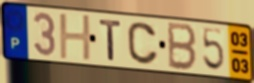3: (31, 11, 58, 59)
5: (200, 26, 226, 73)
B: (167, 20, 198, 73)
C: (126, 20, 161, 67)
H: (57, 13, 93, 62)
T: (98, 19, 124, 64)
